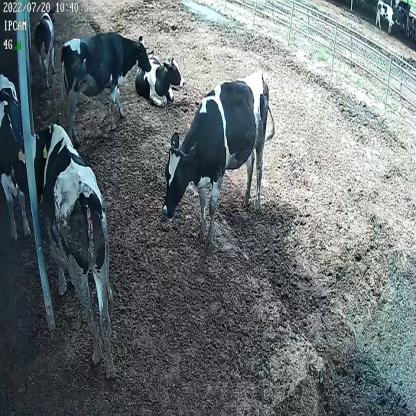cow: (17, 120, 119, 382), (163, 71, 275, 251), (61, 32, 151, 154), (135, 51, 186, 106), (35, 5, 58, 86)
